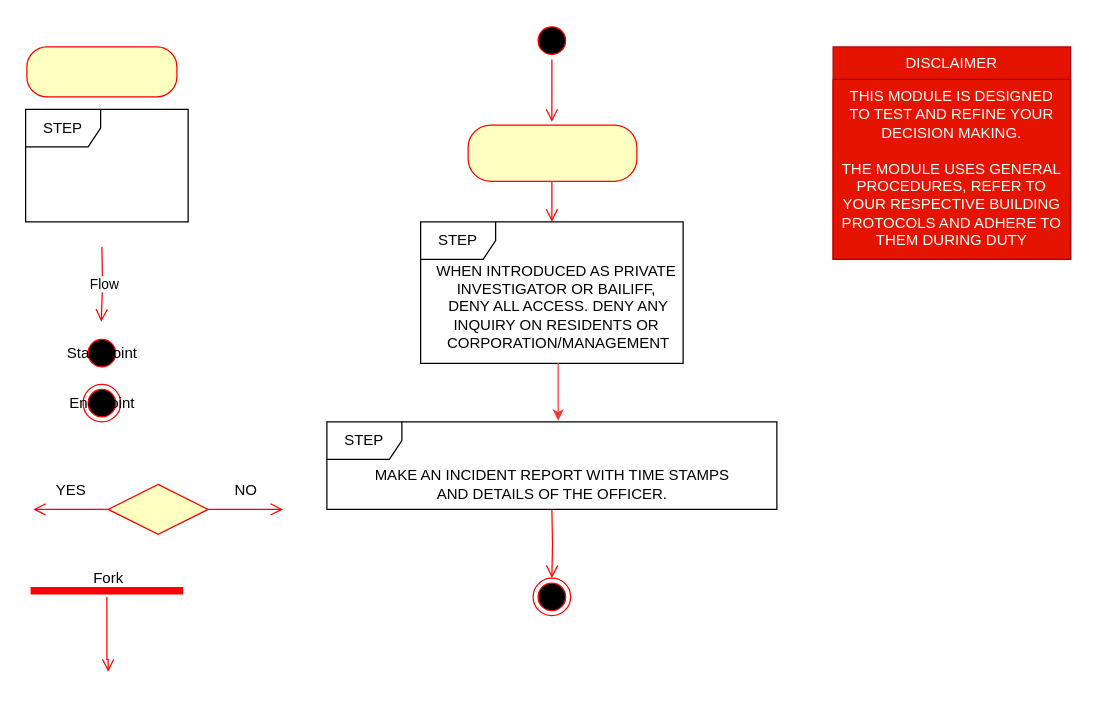
Some shapes in this 1093 by 706 pixel diagram are drawn without their labels. Here are the shapes that lost their labels. From the top down, the centre of each, then its label:
At point (101, 71): "Situation Context".
At point (552, 152): "PRIVATE BAILIFF / INVESTIGATOR IS ON SITE".
At point (157, 508): "Condition".
